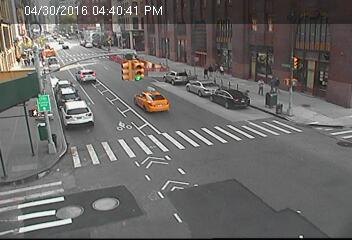neg: (150, 160, 170, 188), (272, 129, 292, 155), (302, 6, 320, 31), (145, 14, 163, 37), (104, 127, 119, 146), (35, 156, 49, 175), (241, 144, 255, 162), (109, 10, 122, 28), (329, 136, 342, 154), (315, 110, 328, 128), (233, 36, 246, 54), (65, 51, 77, 67), (29, 100, 40, 115), (201, 95, 212, 110), (72, 101, 83, 116), (194, 13, 204, 27), (146, 89, 156, 102), (109, 94, 118, 106), (48, 28, 57, 40), (129, 67, 137, 78), (246, 195, 254, 206), (80, 30, 87, 39), (212, 24, 218, 32), (175, 75, 180, 82), (148, 63, 153, 69), (174, 115, 177, 120)
pos: (269, 74, 285, 95), (253, 74, 268, 94), (267, 76, 279, 92), (211, 59, 223, 75), (205, 62, 214, 75), (216, 63, 224, 75), (24, 56, 31, 66), (21, 58, 28, 66), (204, 66, 210, 75), (29, 56, 35, 63)
